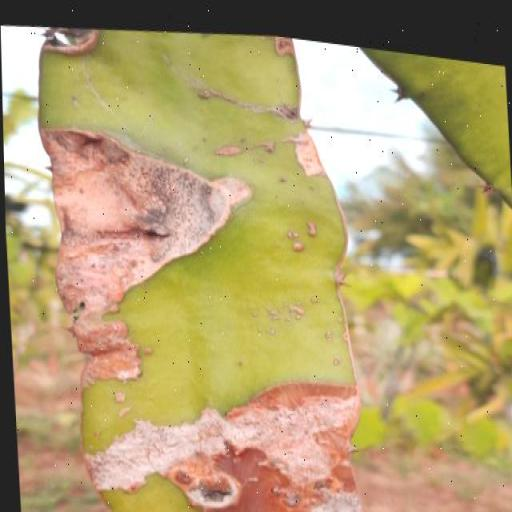stemcanker: (331, 354, 343, 372)
